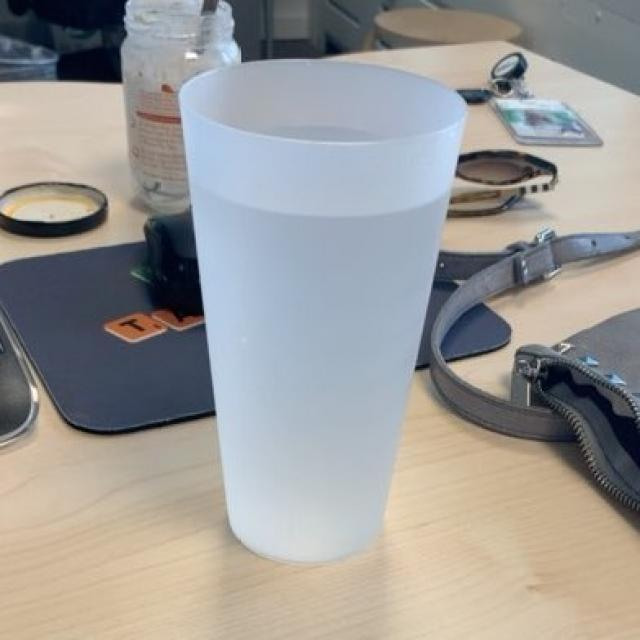water: (195, 78, 455, 531)
